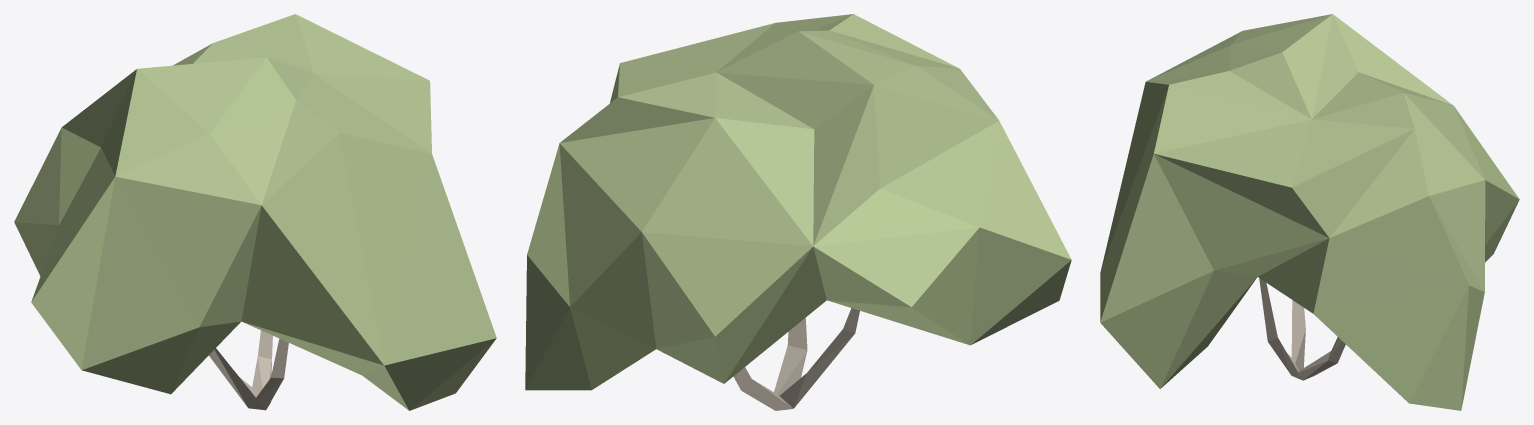
File: FicusBenjamina.glb
The picture shows the model from 3 angles, left to right: view 1: azimuth 30°, elevation 25°; view 2: azimuth 150°, elevation 25°; view 3: azimuth 270°, elevation 25°; orthographic projection. The views are drawn at different scales.
Parts seen in each view (by area): view 1: Crown, Trunk; view 2: Crown, Trunk; view 3: Crown, Trunk.
Part boxes in pixels (bbox=[...]): Crown: bbox=[14, 14, 496, 410]; Trunk: bbox=[209, 330, 288, 410]; Crown: bbox=[525, 14, 1071, 390]; Trunk: bbox=[733, 308, 859, 410]; Crown: bbox=[1100, 14, 1519, 410]; Trunk: bbox=[1259, 278, 1345, 380].
Size of the model in its own units: 38.53 by 30.41 by 35.95.
